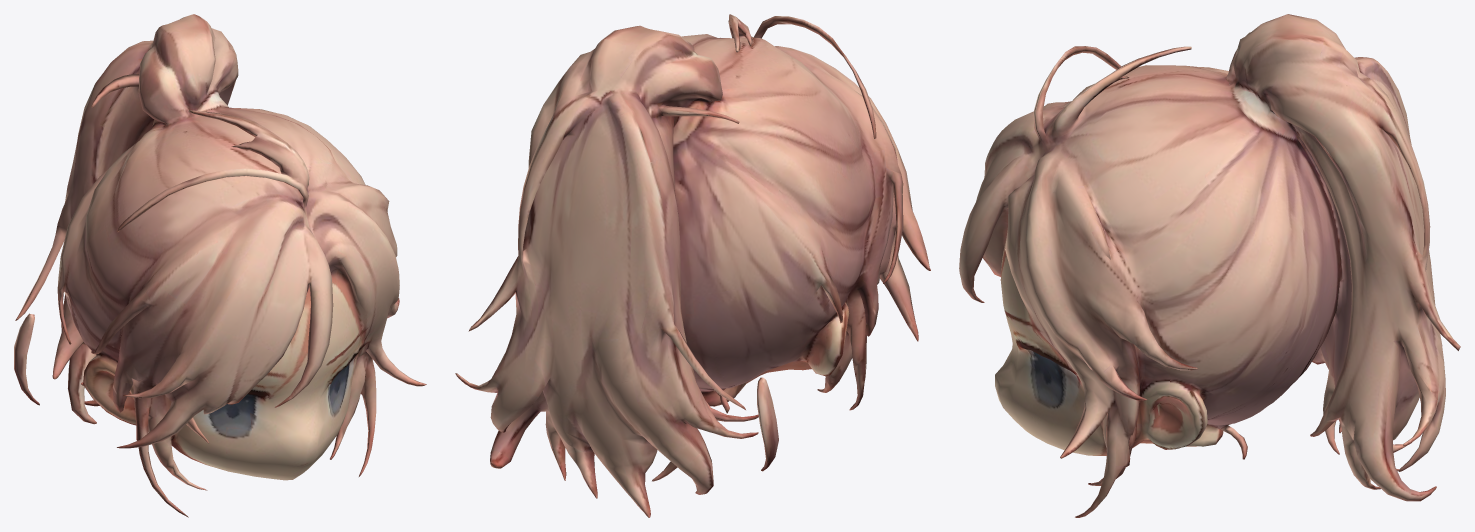
3 renders of one model, left to right at view 1: azimuth 30°, elevation 25°; view 2: azimuth 150°, elevation 25°; view 3: azimuth 270°, elevation 25°, orthographic. The views are drawn at different scales.
Parts seen in each view (by area): view 1: tripo_node_b876725a-e6c3-4998-83b5-49dd906d03a2; view 2: tripo_node_b876725a-e6c3-4998-83b5-49dd906d03a2; view 3: tripo_node_b876725a-e6c3-4998-83b5-49dd906d03a2.
Boxes of the visible parts, x1,y1,x2,y2 form: tripo_node_b876725a-e6c3-4998-83b5-49dd906d03a2: [14, 14, 426, 517]; tripo_node_b876725a-e6c3-4998-83b5-49dd906d03a2: [455, 14, 930, 517]; tripo_node_b876725a-e6c3-4998-83b5-49dd906d03a2: [959, 14, 1460, 517].
Bounding box in the file's own units: 0.7726 × 0.948 × 0.9488.
1 material, 1 textured.
